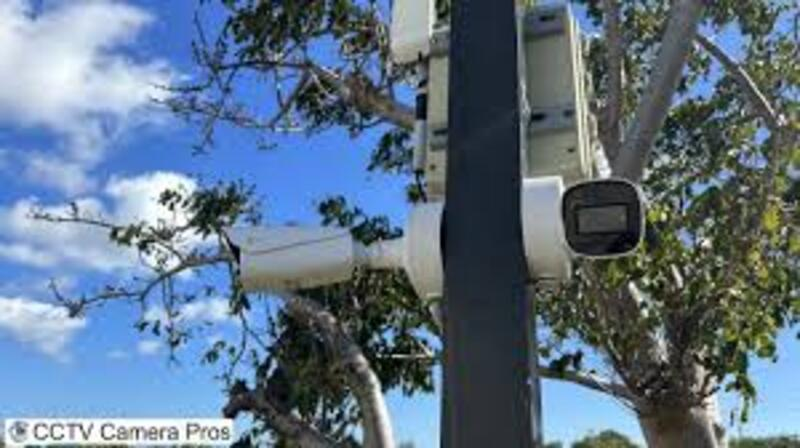dome: (218, 220, 356, 296), (560, 178, 646, 264)
